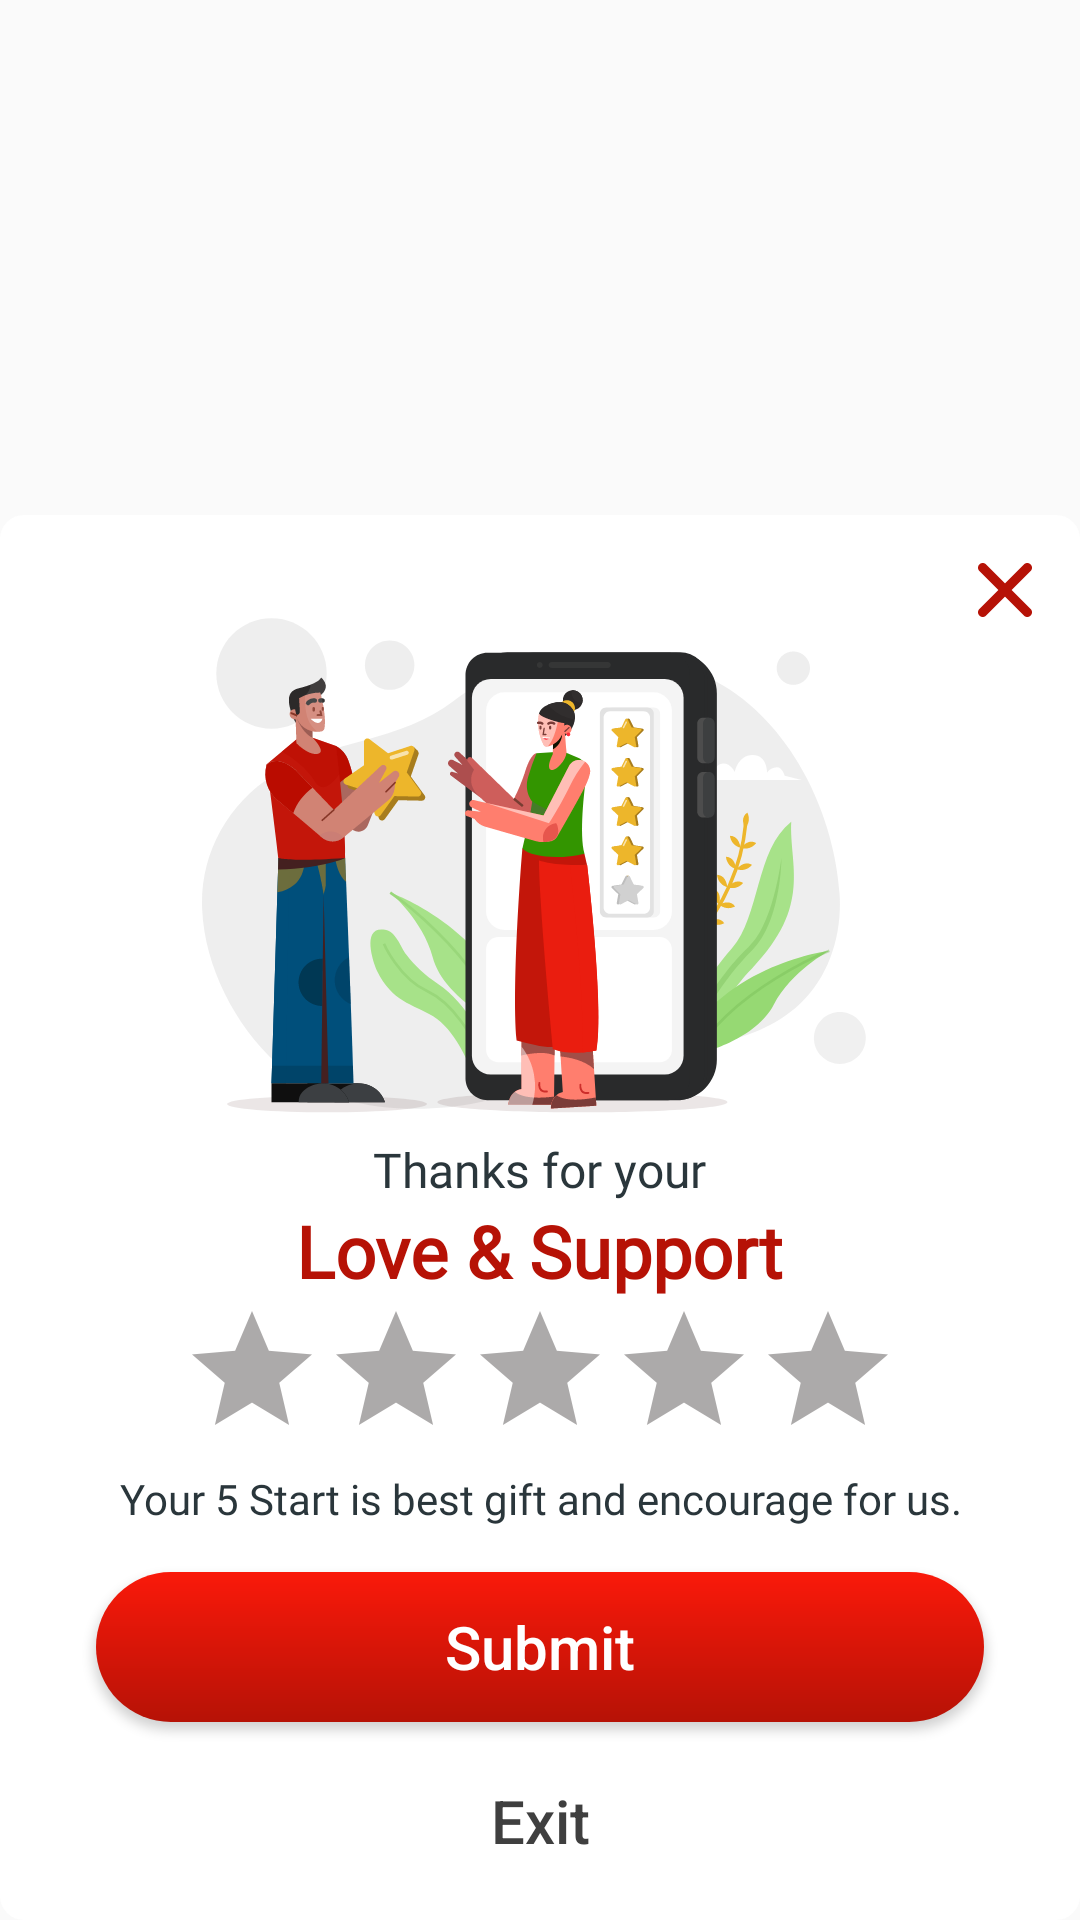

Screen size 1080 x 1920. Icon name, then its center in pixels as [x,y]:
cross: [1005,590]
